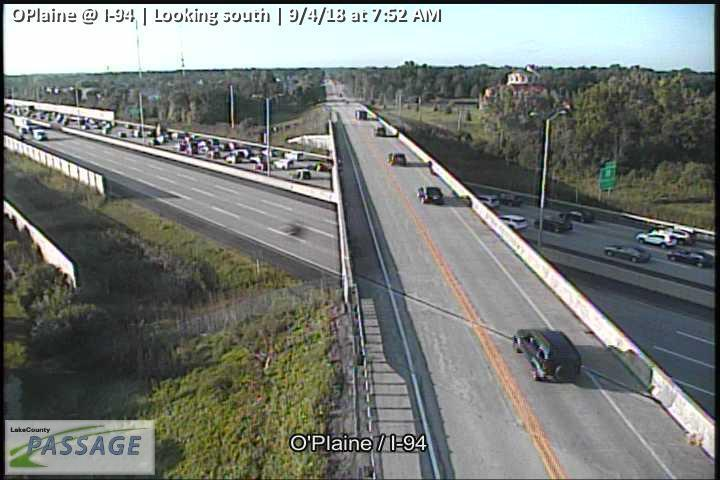SUV: (513, 328, 582, 384), (427, 186, 443, 203), (395, 153, 406, 164), (376, 127, 384, 137)
